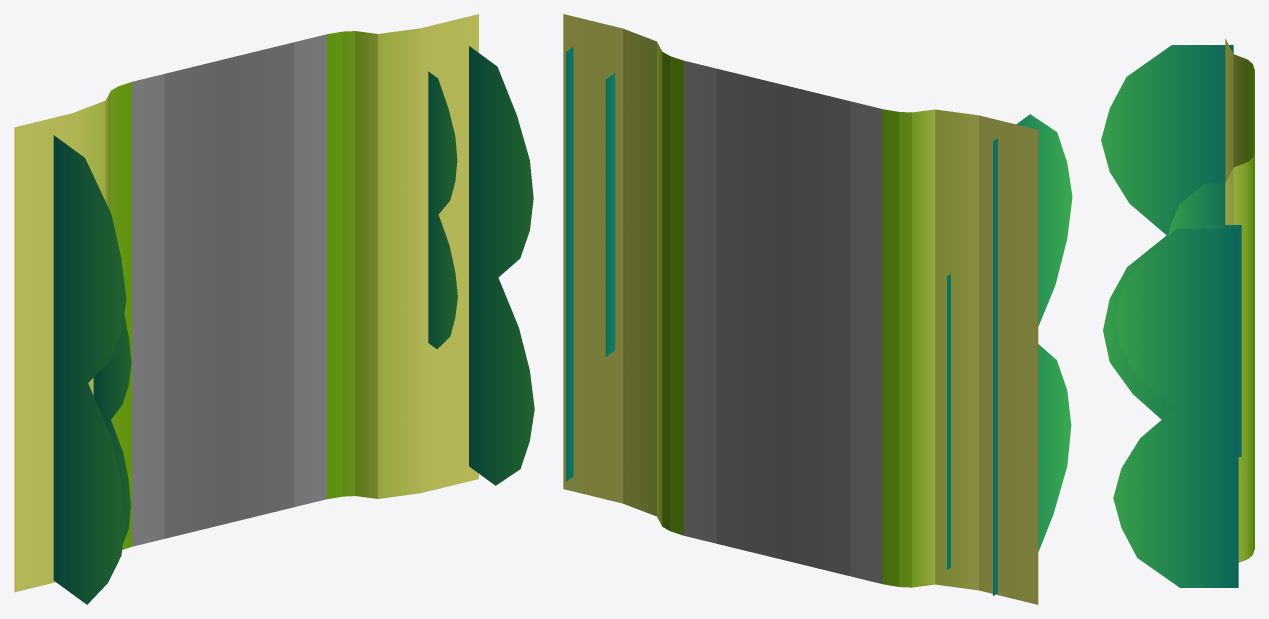
Rendered from BACKGROUND.fbx.
3 renders of one model, left to right at view 1: azimuth 30°, elevation 25°; view 2: azimuth 150°, elevation 25°; view 3: azimuth 270°, elevation 25°, orthographic. The views are drawn at different scales.
Parts seen in each view (by area): view 1: Plane.002; view 2: Plane.002; view 3: Plane.002.
Part boxes in pixels (box(x1,y1,x2,y2)): Plane.002: box(14, 14, 534, 604); Plane.002: box(563, 14, 1072, 604); Plane.002: box(1101, 38, 1254, 587).
Bounding box in the file's own units: 29841 × 28528 × 10023.
